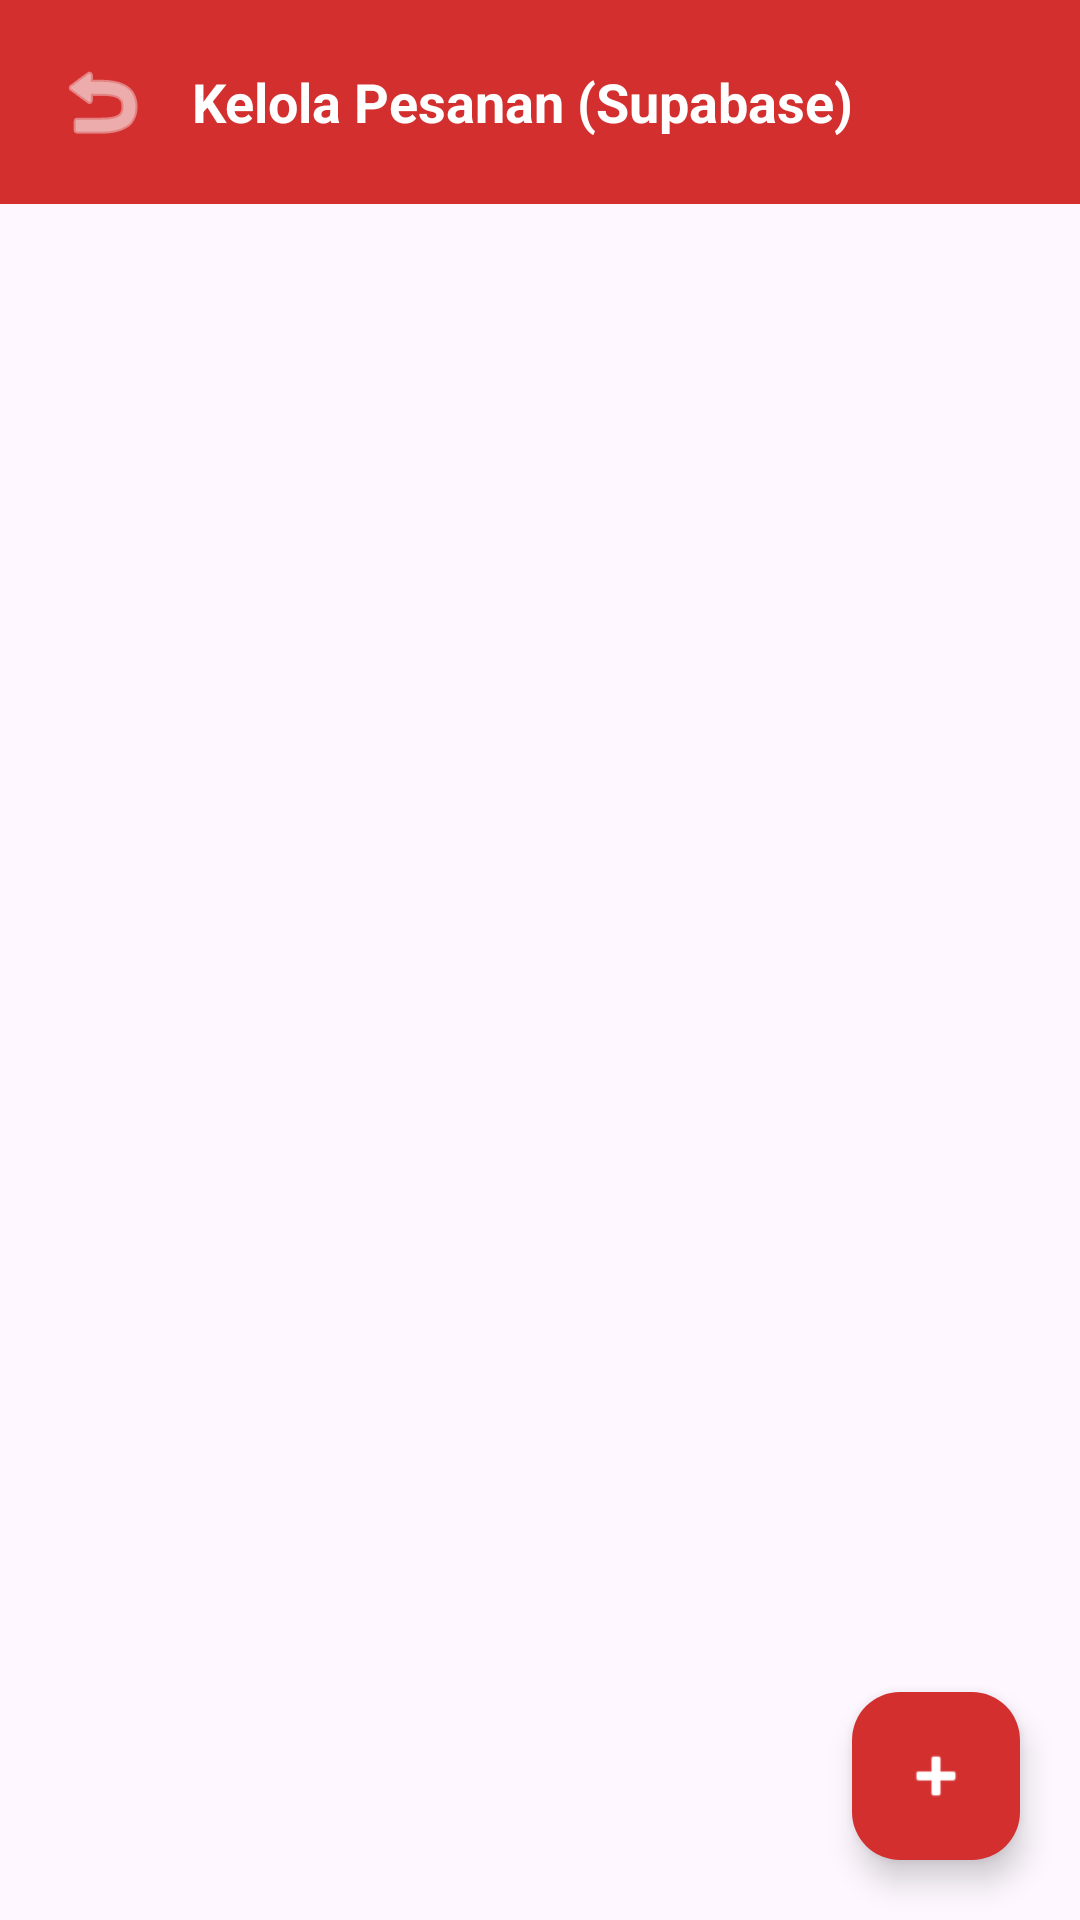

Named icons in this screenshot (1080px×1920px) and their centers, (x=x, y=y):
Kembali: (x=103, y=102)
Tambah Pesanan: (x=936, y=1776)
